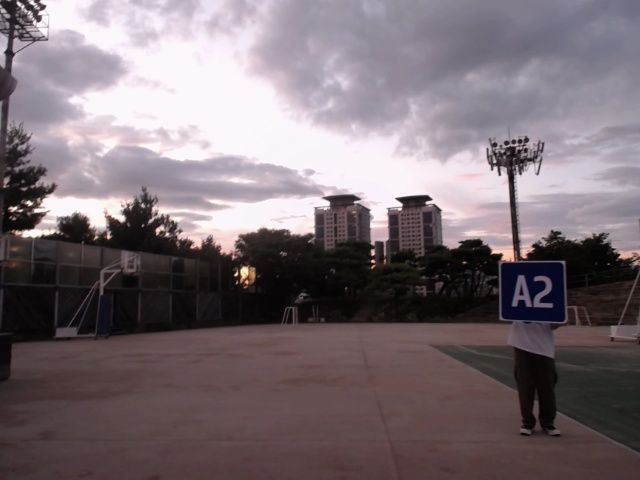delivery_a2: (500, 262, 566, 324)
